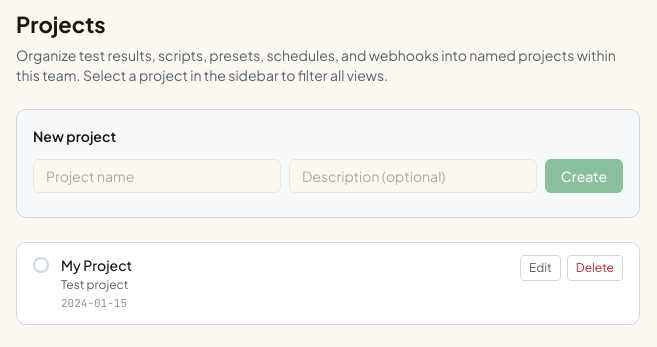
Test case: WorkspacesPage — edit flow › opens inline editor when Edit is clicked
Click the button "Edit" at (540,268), box x1=520 y1=255 x2=561 y2=281
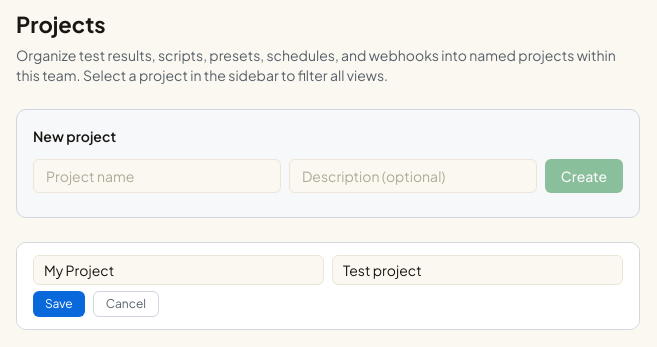
expect the 1st field showing "My Project" is shown: met, box x1=33 y1=255 x2=324 y2=285
expect the 2nd field showing "Test project" is shown: met, box x1=332 y1=255 x2=623 y2=285
